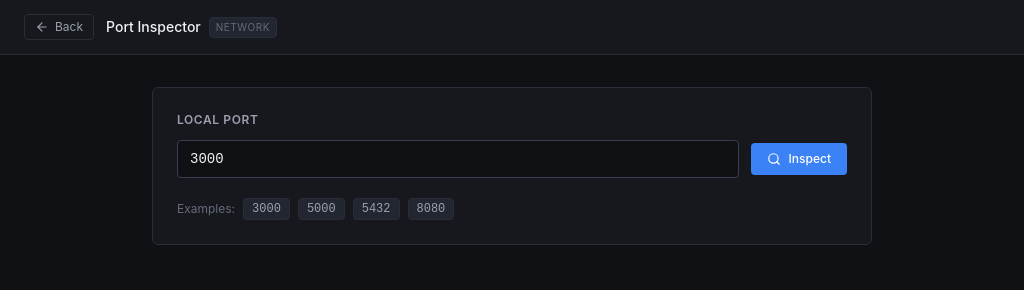
it: PortInspectorPage › validates invalid port input and displays error message
The image size is (1024, 290).
Replace the text in the number field labelled "Local Port" with "70000" at (458, 159), box [177, 140, 739, 178]
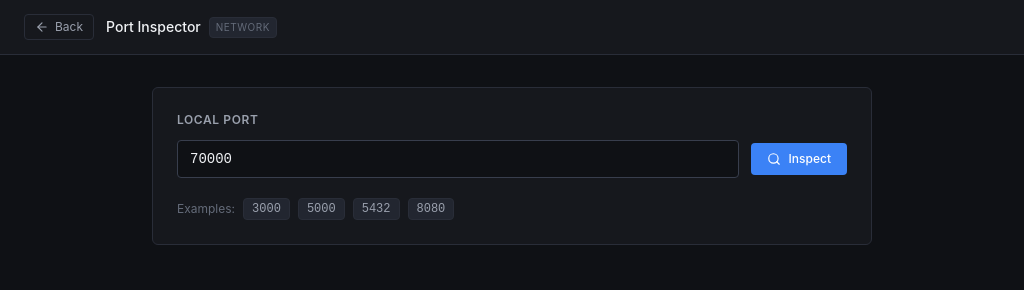
Click the button "Inspect" at (799, 159), box [751, 143, 847, 175]
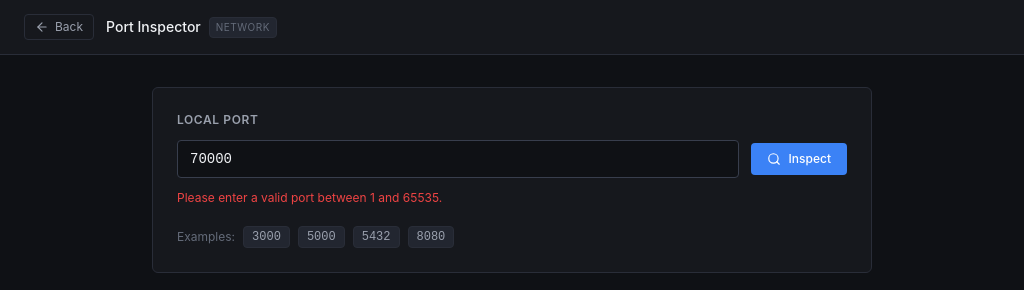
Check: the text "Please enter a valid port between 1 and 65535." is shown, box [177, 190, 442, 205]
